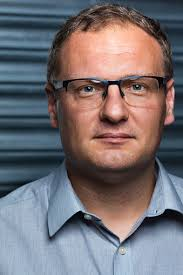Glasses: (47, 76, 175, 108)
